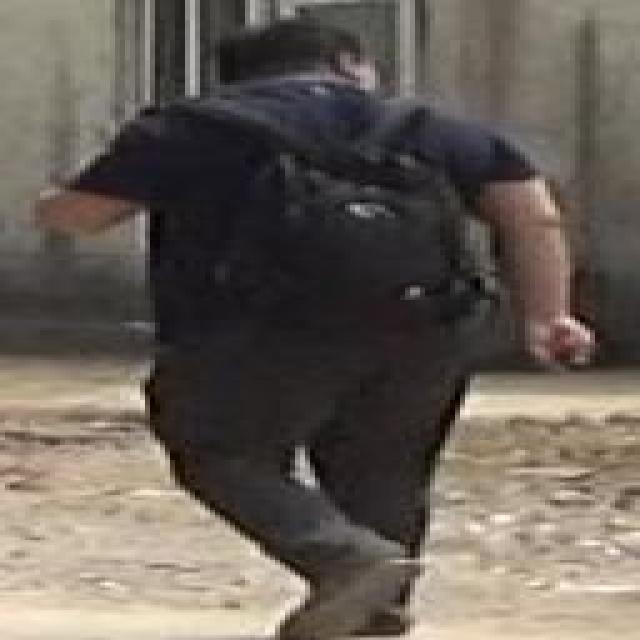adult: (32, 24, 602, 637)
